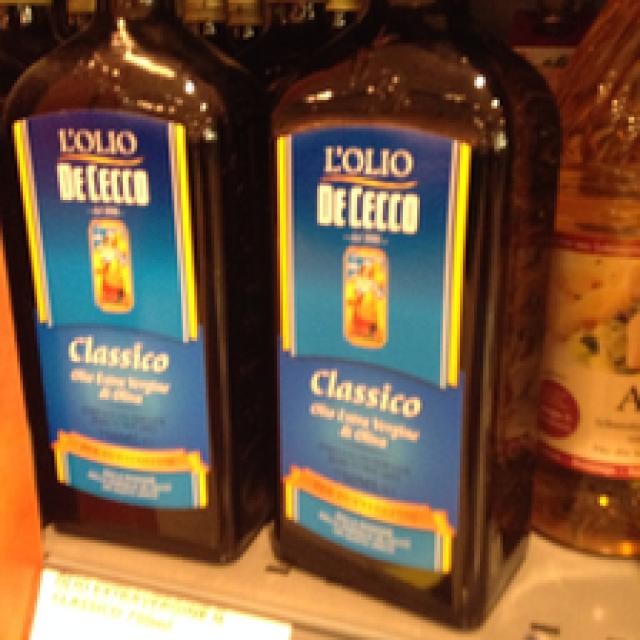groceries: (260, 0, 569, 629), (3, 0, 257, 566)
